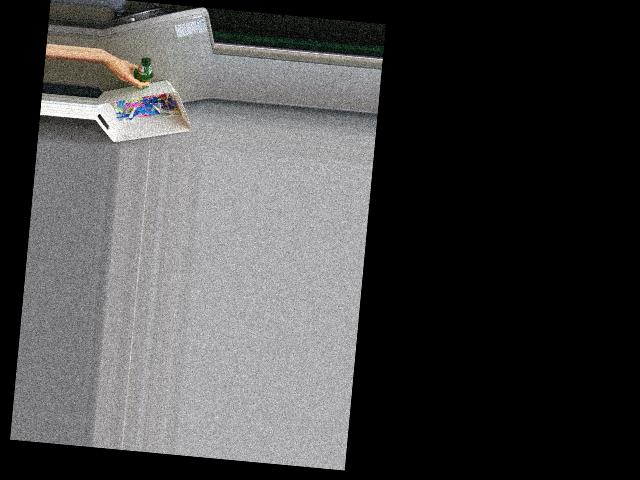beer: (132, 56, 154, 89)
